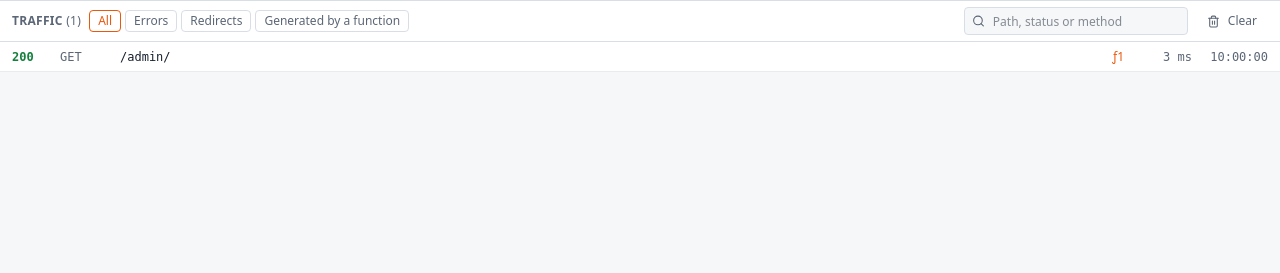
Test case: TrafficPanel › a request's journey shows what each function changed
The image size is (1280, 273).
Click the option "200 GET /admin/ ƒ1 3 ms 10:00:00": (145, 56) [0, 42, 1279, 72]
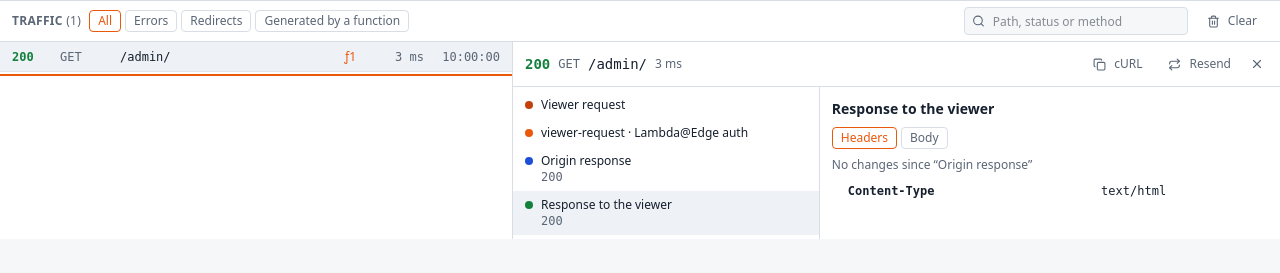
Expected: the buttons read "Viewer request", "viewer-request · Lambda@Edge auth", "Origin response200", "Response to the viewer200", in this order
Click the button "viewer-request · Lambda@Edge auth": (666, 133) [513, 119, 819, 147]
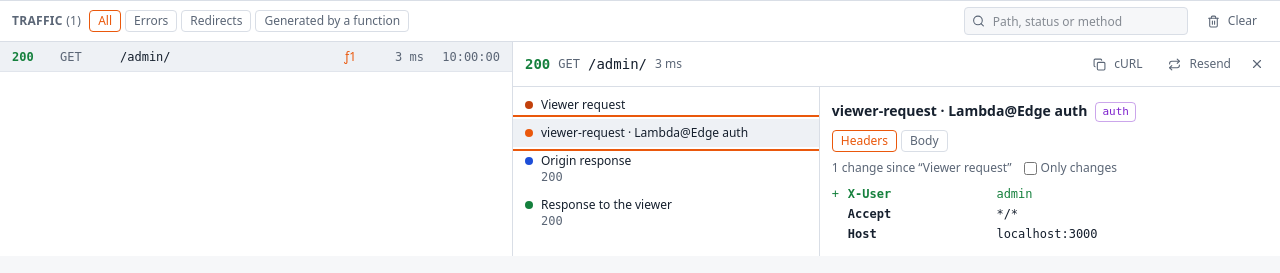
Expected: the text "1 change since “Viewer request”" is shown, [832, 160, 1012, 176]
Expected: the row named "added" shows "X-User", [848, 187, 891, 201]
Click the button "Origin response 200": (586, 160) [513, 147, 819, 191]
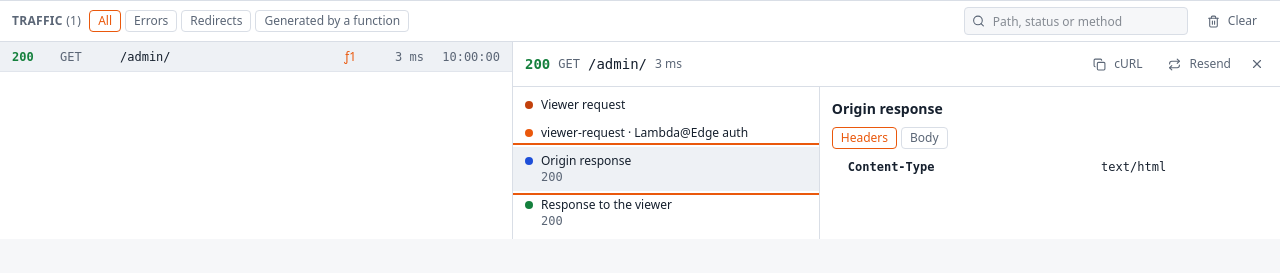
Click the tab "body": (924, 138) [901, 127, 948, 149]
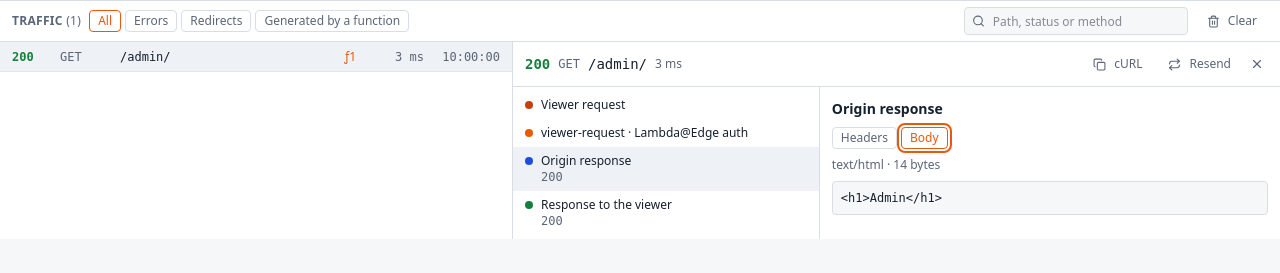
Expected: the text "<h1>Admin</h1>" is shown, [832, 181, 1268, 215]
